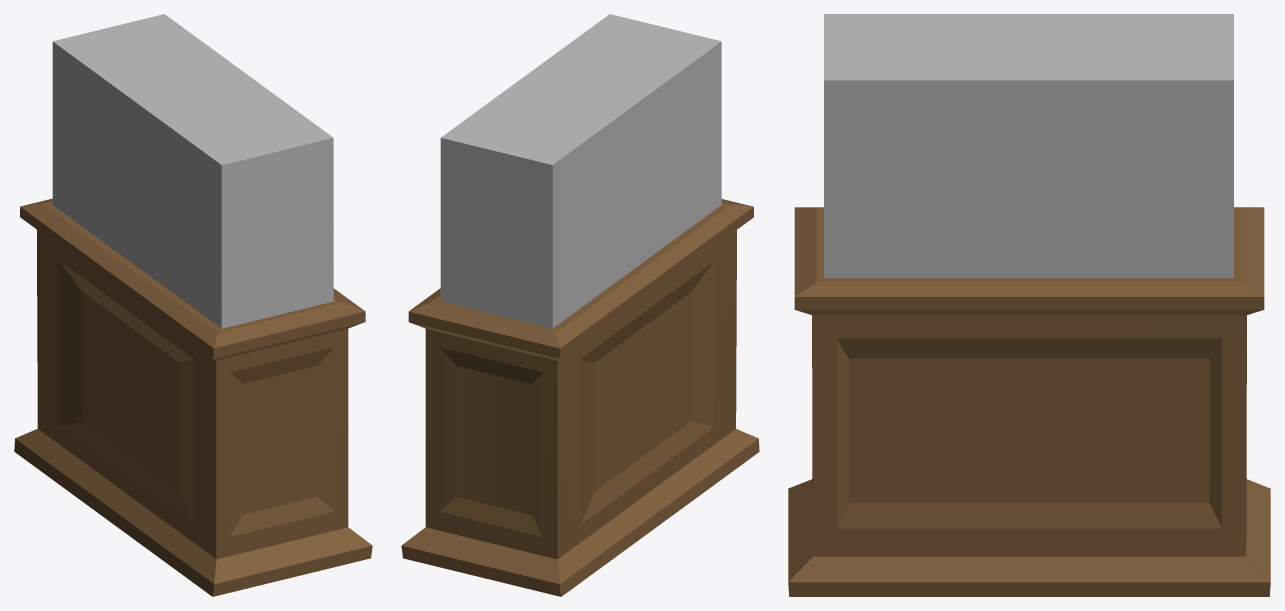
The model's file is gem display cabinet with gems.fbx.
3 renders of one model, left to right at view 1: azimuth 30°, elevation 25°; view 2: azimuth 150°, elevation 25°; view 3: azimuth 270°, elevation 25°, orthographic. The views are drawn at different scales.
Parts seen in each view (by area): view 1: pasted__pCube60, pCube65; view 2: pasted__pCube60, pCube65; view 3: pasted__pCube60, pCube65.
Part boxes in pixels (bbox=[...]): pasted__pCube60: bbox=[14, 198, 372, 596]; pCube65: bbox=[52, 14, 333, 328]; pasted__pCube60: bbox=[401, 199, 759, 596]; pCube65: bbox=[440, 14, 721, 328]; pasted__pCube60: bbox=[788, 207, 1270, 596]; pCube65: bbox=[824, 14, 1233, 278].
Size of the model in its own units: 1.86 by 4.62 by 4.02.
